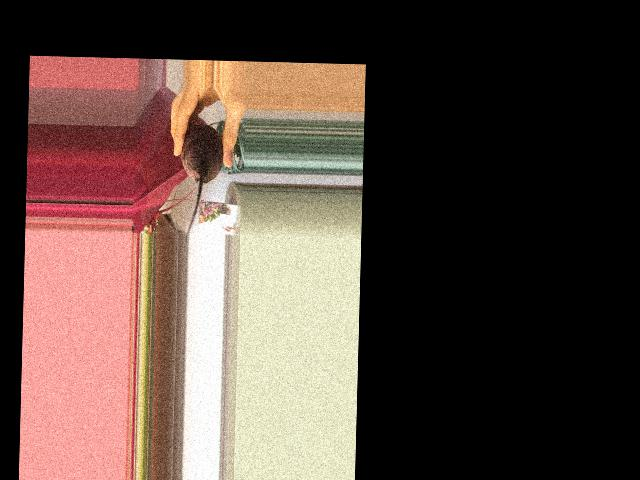beet: (178, 122, 224, 236)
